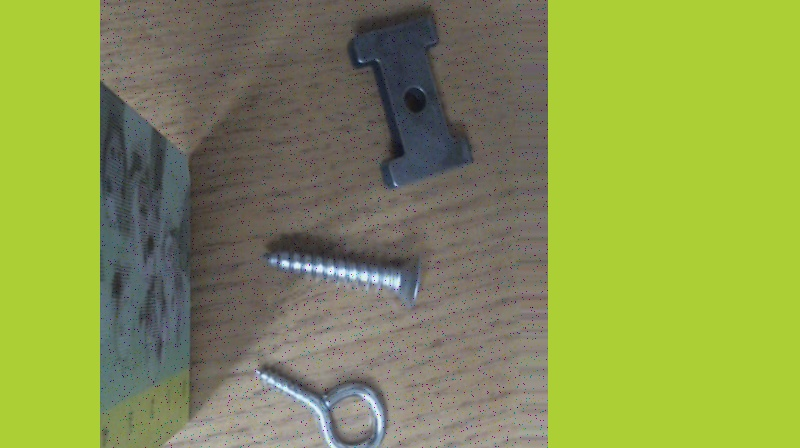O001: (248, 361, 387, 447)
O002: (346, 6, 473, 192)
S001: (259, 244, 420, 310)
